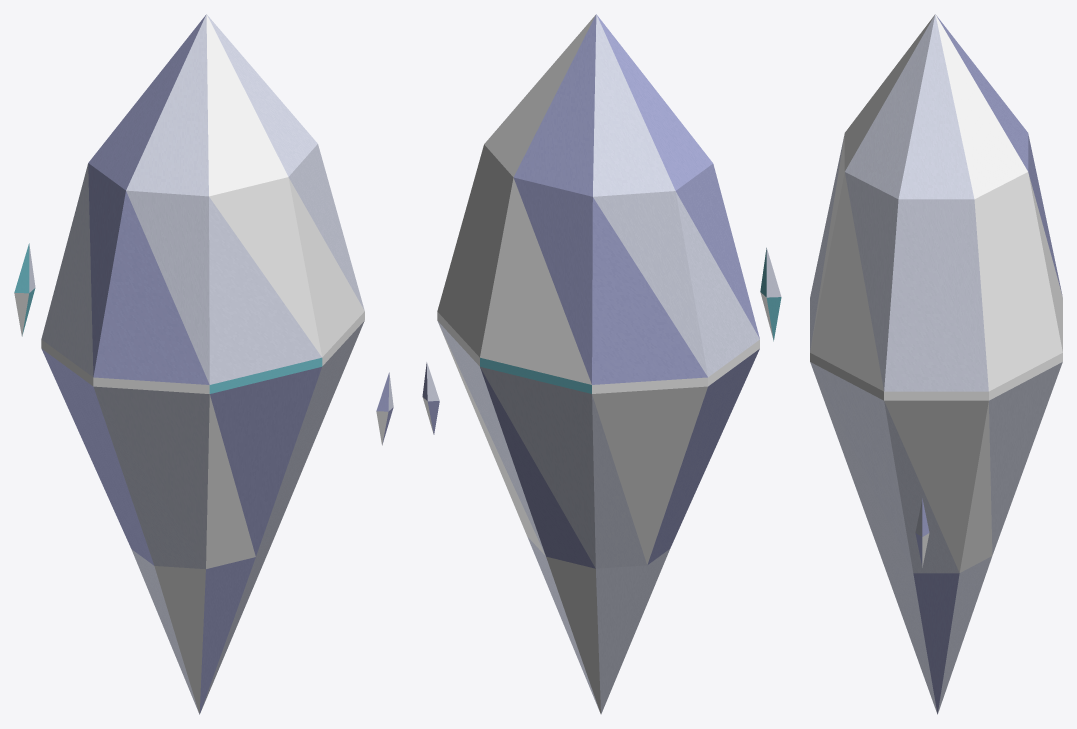
The model's file is dark_matter_crystal.obj.
3 views of the same model, side by side, from view 1: azimuth 30°, elevation 25°; view 2: azimuth 150°, elevation 25°; view 3: azimuth 270°, elevation 25° (orthographic).
Visible parts, largest first — view 1: dark_matter_crystal; view 2: dark_matter_crystal; view 3: dark_matter_crystal.
Boxes of the visible parts, x1=… form: dark_matter_crystal: x1=14, y1=14, x2=393, y2=714; dark_matter_crystal: x1=422, y1=14, x2=781, y2=714; dark_matter_crystal: x1=810, y1=14, x2=1062, y2=714.
Size of the model in its own units: 0.4781 by 0.8656 by 0.2818.
